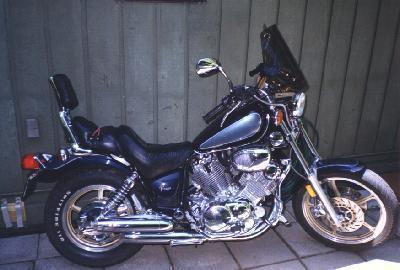motorcycle: (1, 24, 400, 270)
